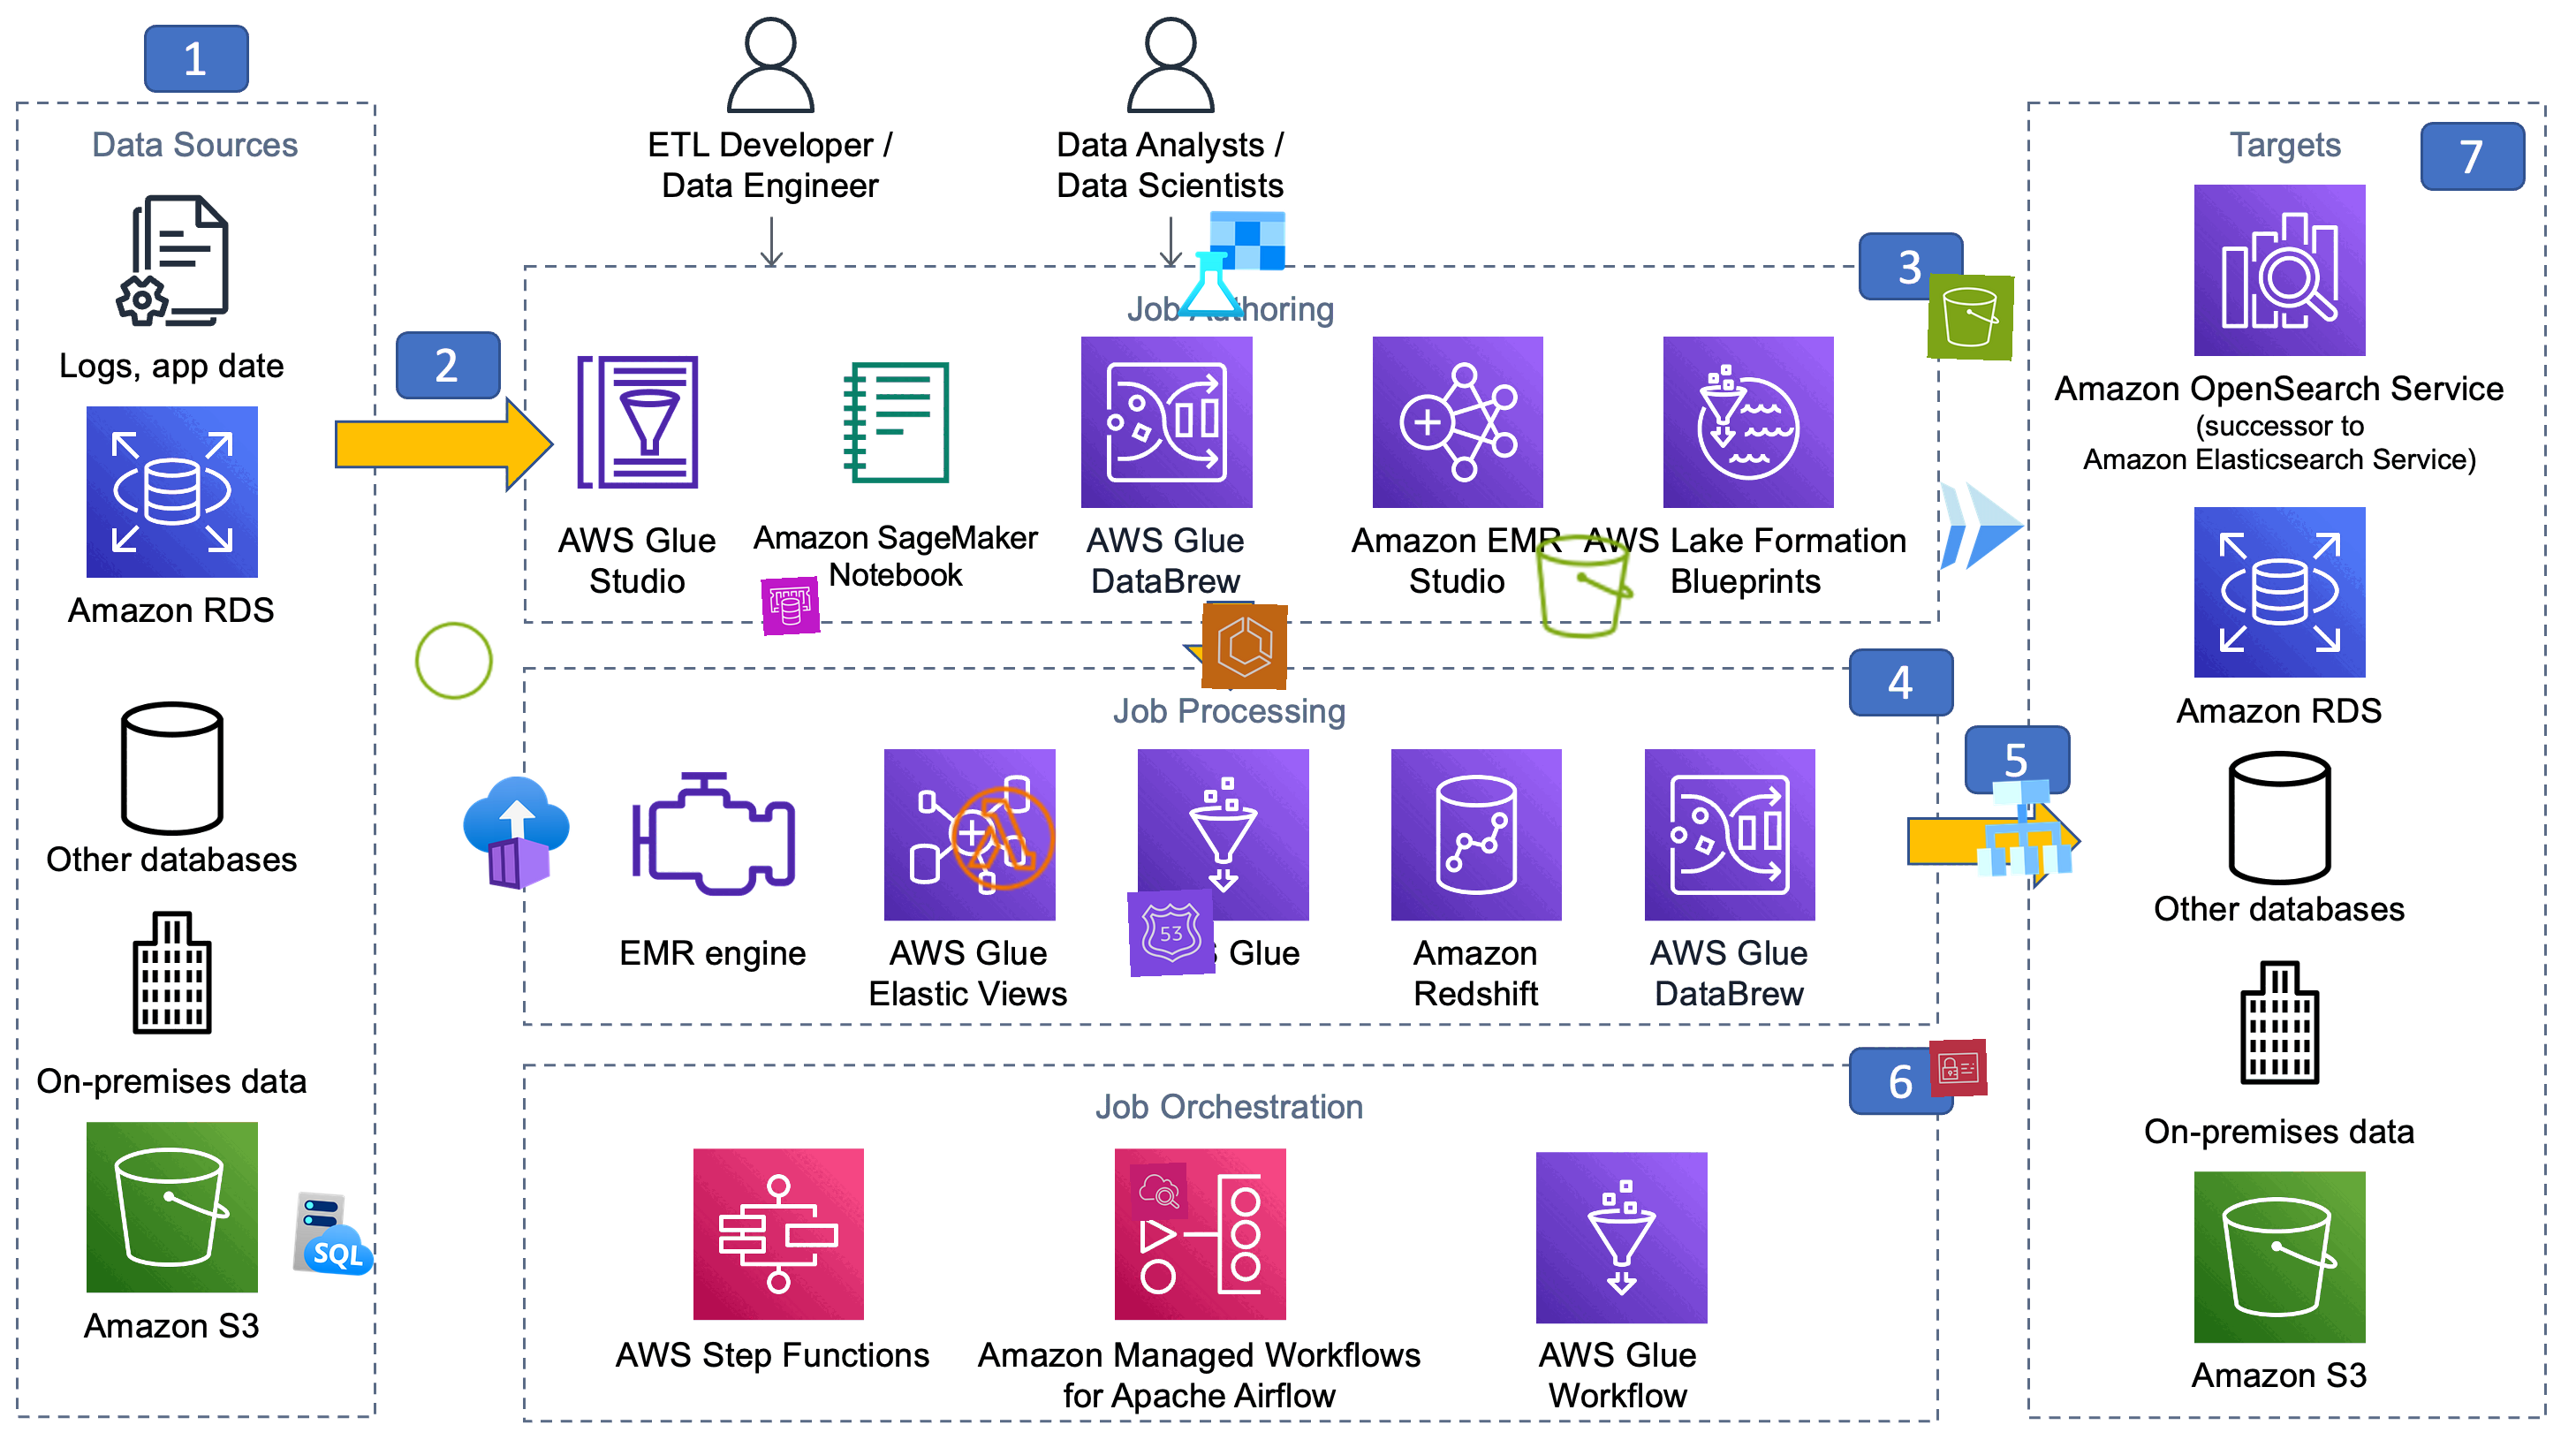aws_amazon_cloudwatch: (1129, 1162, 1189, 1222)
aws_amazon_elastic_container_service: (1201, 603, 1288, 690)
aws_amazon_elasticache: (761, 577, 821, 637)
aws_amazon_route_53: (1127, 888, 1215, 977)
aws_amazon_simple_storage_service: (1927, 272, 2015, 361)
aws_identity_and_access_management: (1930, 1038, 1987, 1097)
aws_lambda_lambda_function: (945, 778, 1063, 897)
aws_simple_storage_service_bucket: (1525, 527, 1644, 646)
aws_simple_storage_service_object: (409, 616, 499, 706)
azure_container_instances: (458, 773, 577, 892)
azure_machine_learning_studio_workspaces: (1175, 207, 1288, 322)
azure_sql_managed_instance: (290, 1189, 382, 1281)
gcp_cloud_load_balancing: (1964, 768, 2082, 886)
gcp_cloud_run: (1923, 469, 2038, 584)
